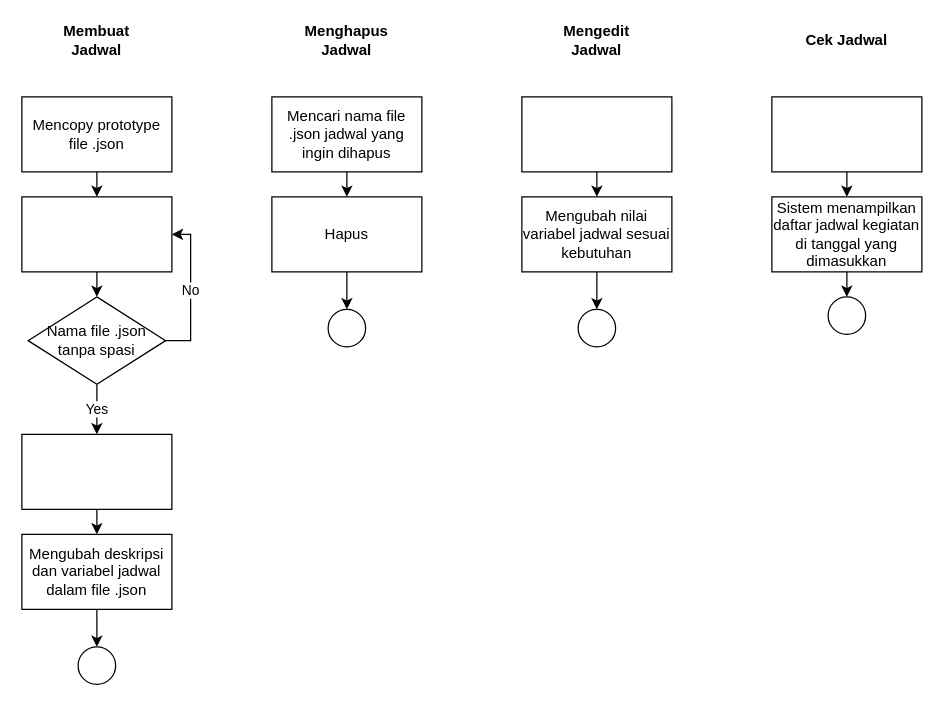
This 944x706 diagram has some shape labels left out. Here are the shapes that lost their labels. From the top down, the centre of each, then its label:
point (596, 134): Mencari nama file .json jadwal yang ingin diedit
point (846, 134): Memilih tanggal, masukkan "0" untuk hari ini. Format tanggal DD-MM-YYYY
point (96, 234): Mengubah file .json sebagai id jadwal
point (96, 471): Menambah ID file / nama file ke listjadwal.json agar jadwal terdaftarkan
